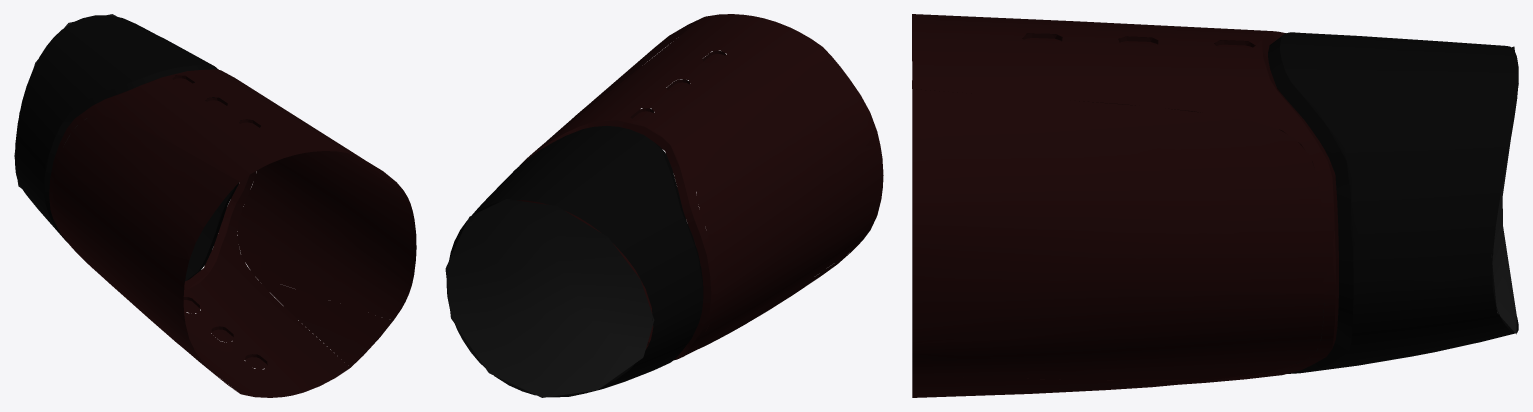
File: sim_gene01_r_wrist_1.obj
3 renders of one model, left to right at view 1: azimuth 30°, elevation 25°; view 2: azimuth 150°, elevation 25°; view 3: azimuth 270°, elevation 25°, orthographic. The views are drawn at different scales.
Parts seen in each view (by area): view 1: sim_gene01_r_wrist_1; view 2: sim_gene01_r_wrist_1; view 3: sim_gene01_r_wrist_1.
Boxes of the visible parts, bbox=[...] form: sim_gene01_r_wrist_1: bbox=[14, 14, 416, 397]; sim_gene01_r_wrist_1: bbox=[445, 14, 883, 397]; sim_gene01_r_wrist_1: bbox=[912, 14, 1518, 397].
Bounding box in the file's own units: 120 × 118 × 188.
